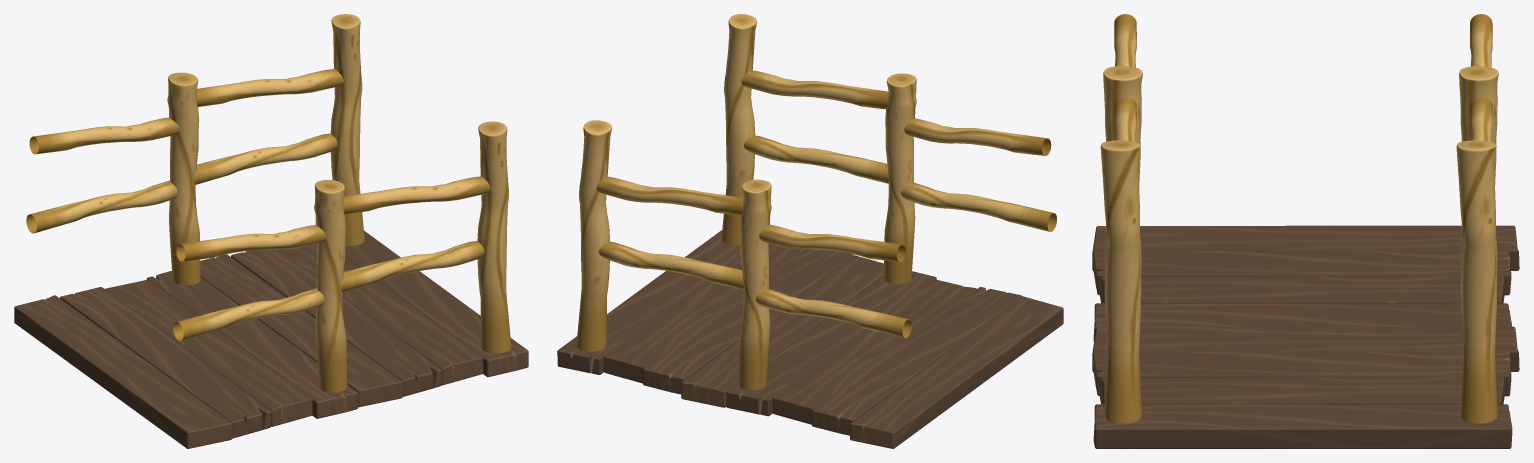
The model's file is Bridge.fbx.
3 views of the same model, side by side, from view 1: azimuth 30°, elevation 25°; view 2: azimuth 150°, elevation 25°; view 3: azimuth 270°, elevation 25° (orthographic). The views are drawn at different scales.
Visible parts, largest first — view 1: polySurface85; view 2: polySurface85; view 3: polySurface85.
Boxes of the visible parts, left/top/right/bottom form: polySurface85: left=14, top=14, right=528, bottom=448; polySurface85: left=557, top=14, right=1063, bottom=448; polySurface85: left=1092, top=14, right=1519, bottom=448.
Size of the model in its own units: 2.24 by 1.5 by 2.
